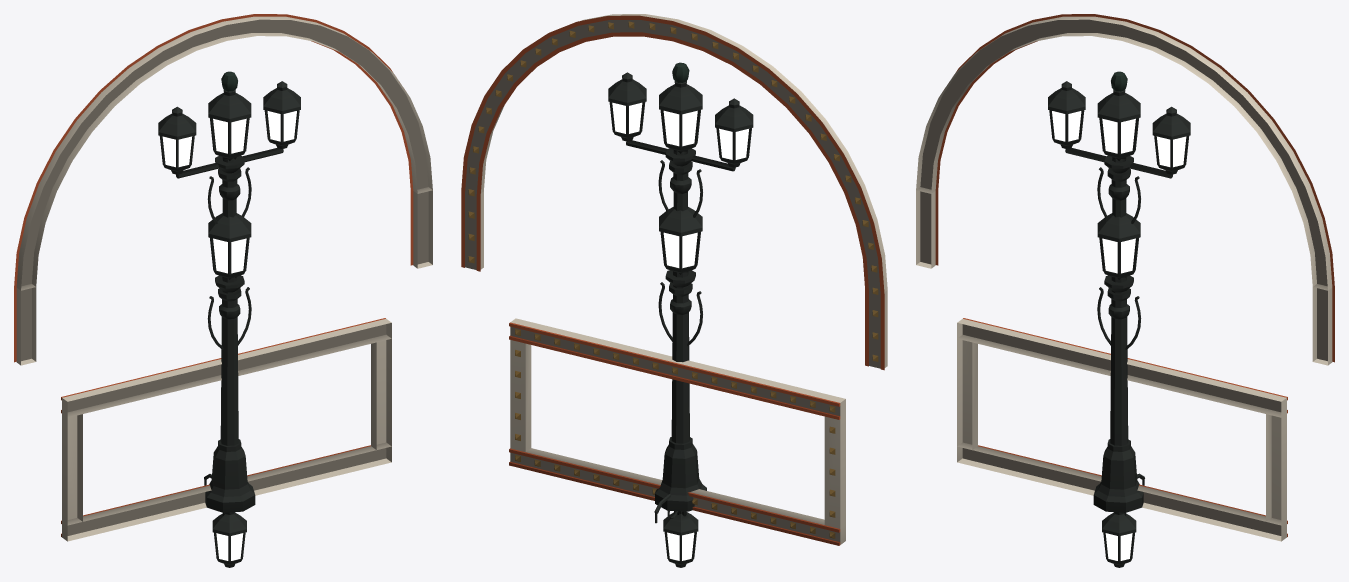
The model's file is kit_lights.glb.
The picture shows the model from 3 angles, left to right: view 1: azimuth 30°, elevation 25°; view 2: azimuth 150°, elevation 25°; view 3: azimuth 330°, elevation 25°; orthographic projection.
Parts seen in each view (by area): view 1: marquee_arch_4m, marquee_rect_3x1, lamp_post, lamp_post_double, lamp_post_short, lantern_wall; view 2: marquee_rect_3x1, marquee_arch_4m, lamp_post, lamp_post_double, lamp_post_short, lantern_wall; view 3: marquee_arch_4m, marquee_rect_3x1, lamp_post, lamp_post_double, lamp_post_short, lantern_wall.
Part boxes in pixels (x1=…): marquee_arch_4m: x1=14, y1=14, x2=432, y2=365; marquee_rect_3x1: x1=61, y1=318, x2=391, y2=541; lamp_post: x1=205, y1=89, x2=255, y2=512; lamp_post_double: x1=158, y1=81, x2=300, y2=178; lamp_post_short: x1=207, y1=212, x2=251, y2=349; lantern_wall: x1=204, y1=474, x2=246, y2=567; marquee_rect_3x1: x1=509, y1=318, x2=845, y2=545; marquee_arch_4m: x1=461, y1=14, x2=887, y2=370; lamp_post: x1=655, y1=81, x2=706, y2=511; lamp_post_double: x1=608, y1=72, x2=753, y2=171; lamp_post_short: x1=658, y1=206, x2=702, y2=345; lantern_wall: x1=654, y1=494, x2=698, y2=567; marquee_arch_4m: x1=916, y1=14, x2=1334, y2=365; marquee_rect_3x1: x1=957, y1=318, x2=1287, y2=541; lamp_post: x1=1093, y1=89, x2=1143, y2=512; lamp_post_double: x1=1048, y1=81, x2=1190, y2=178; lamp_post_short: x1=1097, y1=212, x2=1141, y2=349; lantern_wall: x1=1102, y1=473, x2=1144, y2=567.
Size of the model in its own units: 4.36 by 5.42 by 0.6906.
